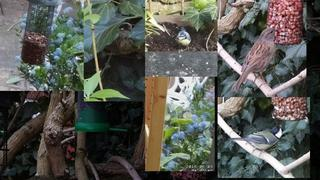blue tit: (175, 27, 191, 51)
dunnock: (231, 27, 280, 92)
great tit: (227, 124, 283, 157)
